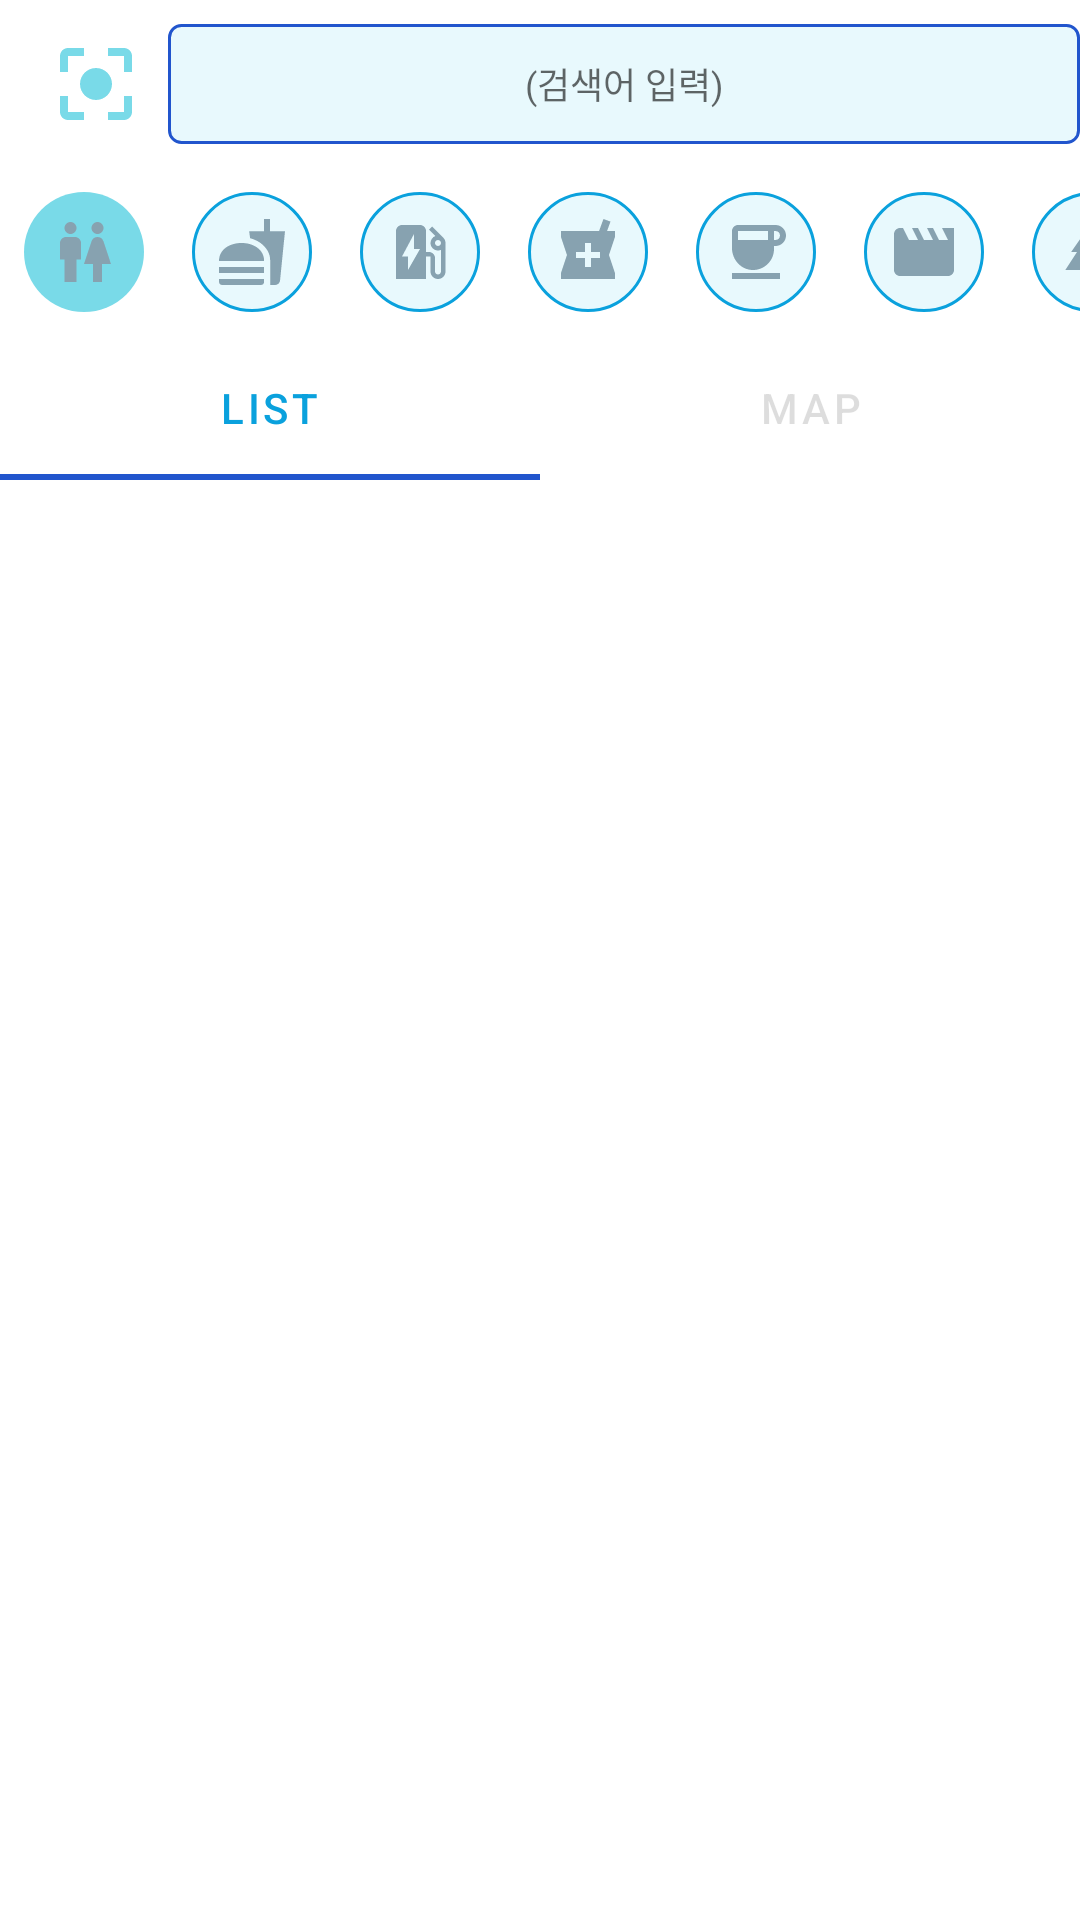

Where to tap for icons on this 1080*1920 app screen, as (x=x, y=y):
coffee: (x=756, y=252)
evstat: (x=420, y=252)
fastfood: (x=252, y=252)
location: (x=96, y=84)
movie: (x=924, y=252)
pharm: (x=588, y=252)
toilet: (x=84, y=252)
